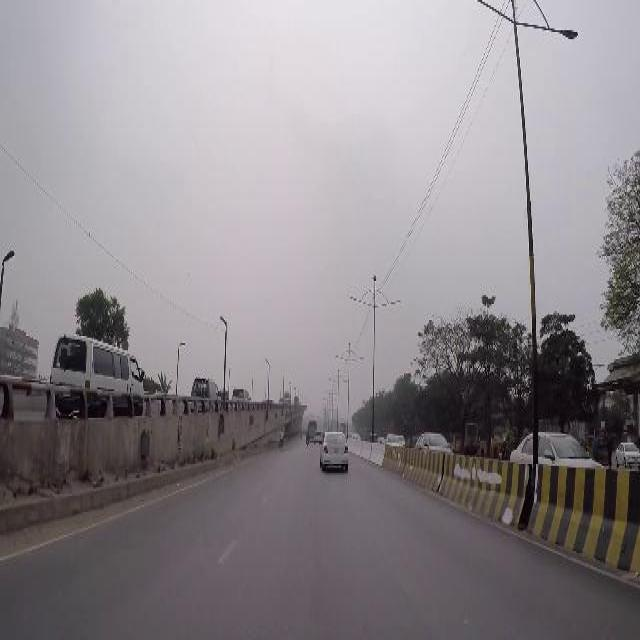10: (306, 431, 308, 444)
19: (48, 332, 144, 397)
5: (508, 430, 604, 470), (319, 428, 349, 468), (414, 430, 454, 455), (616, 439, 638, 464), (314, 428, 322, 442)
9: (192, 374, 220, 401), (230, 386, 250, 400), (384, 434, 402, 448)
Motorcycle: (278, 426, 284, 449)
Truck: (308, 418, 316, 439)
